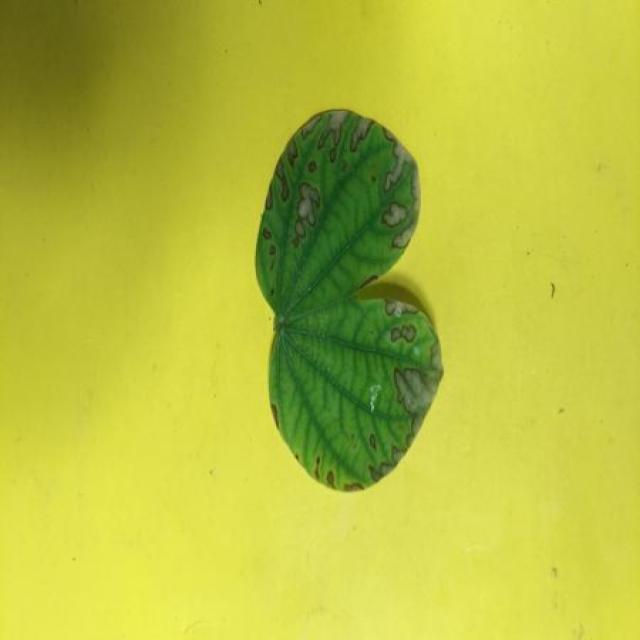Kambajala: (257, 110, 443, 491)
